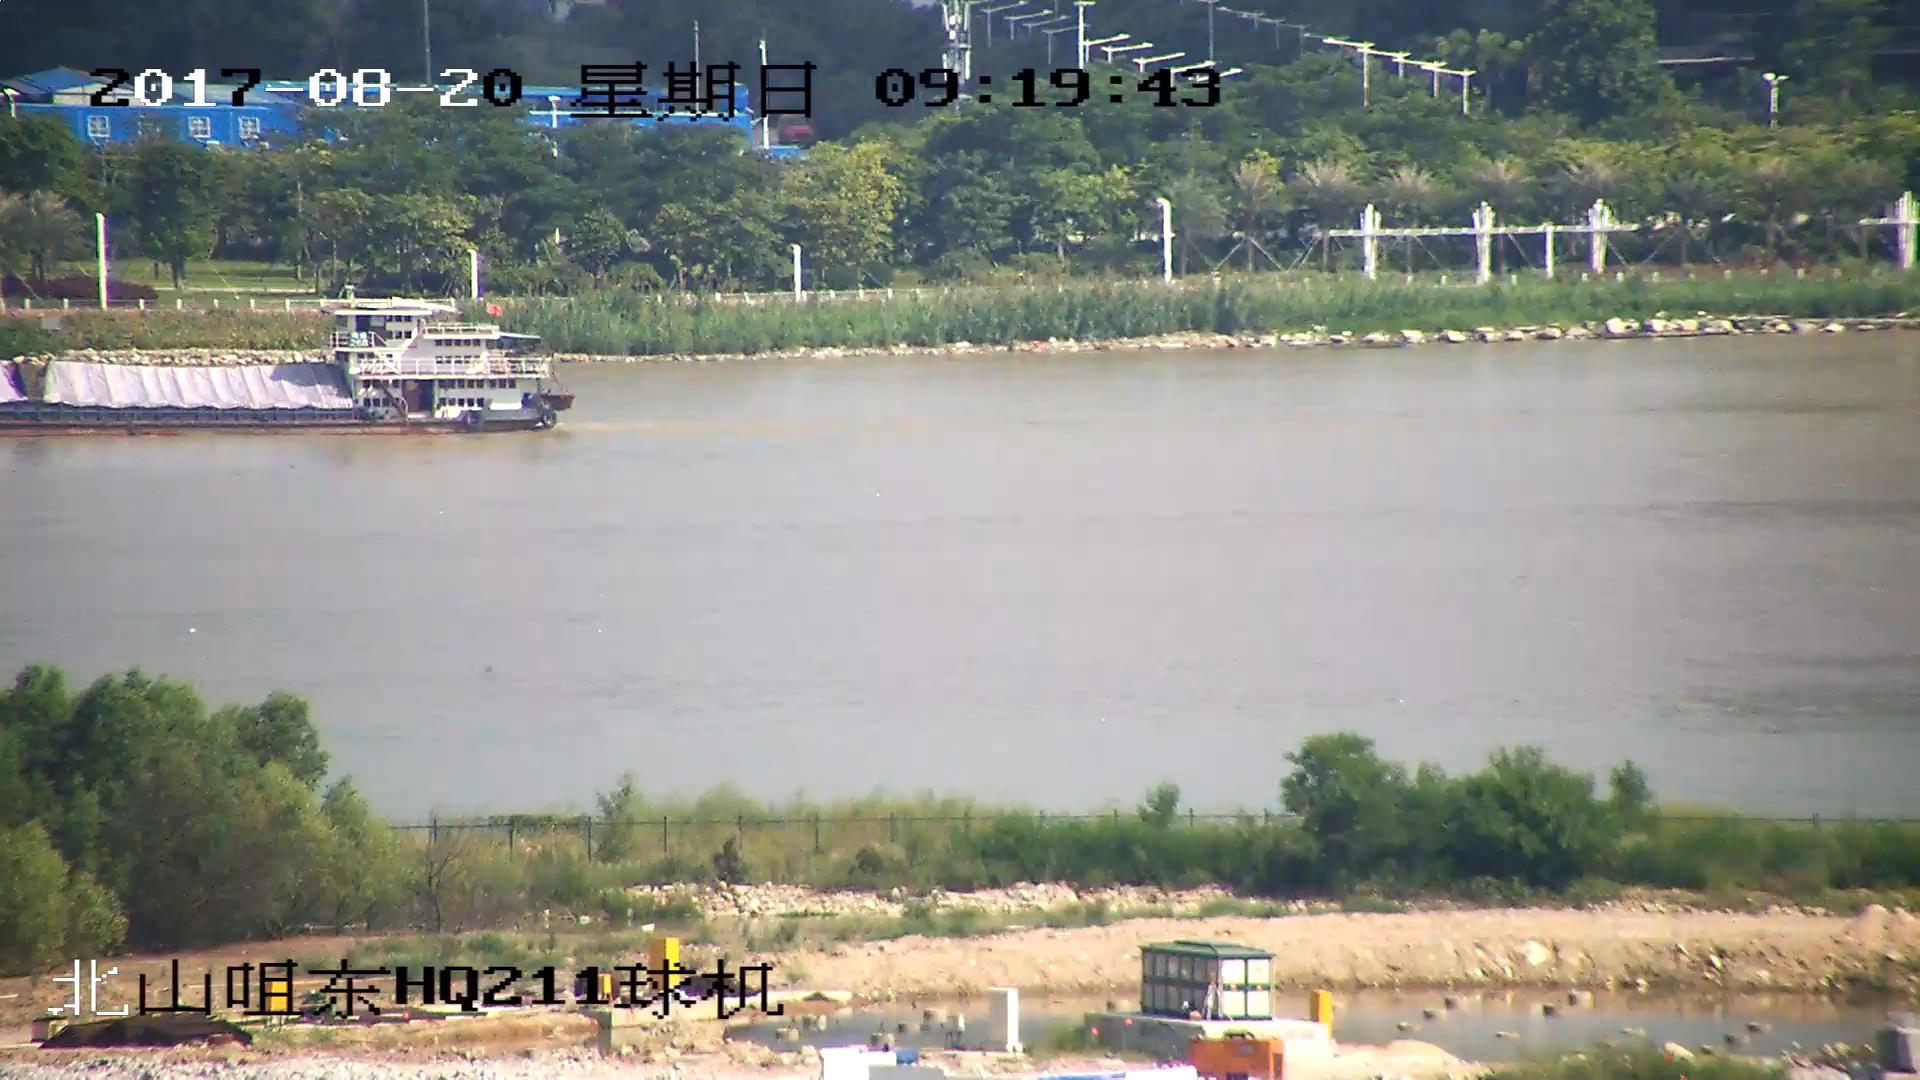general cargo ship: (1, 302, 571, 434)
